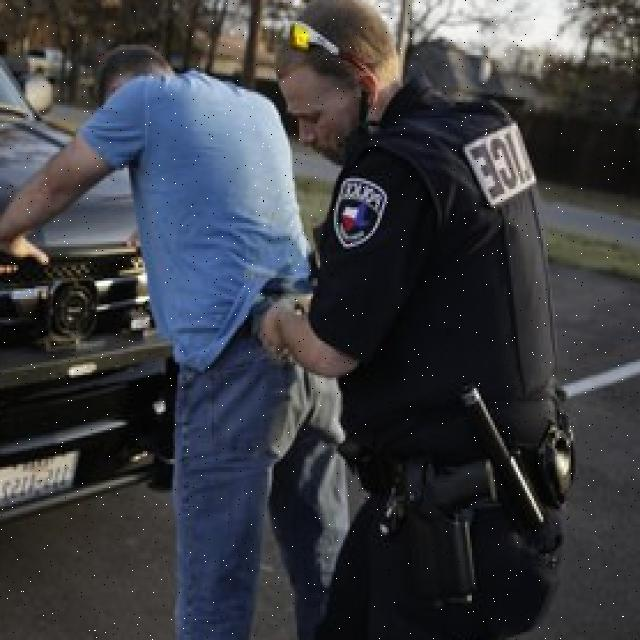police: (274, 0, 587, 640)
